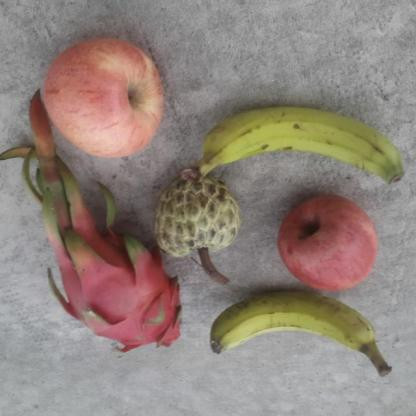annona: (152, 170, 247, 264)
apple: (44, 31, 169, 157), (279, 192, 383, 290)
banana: (182, 105, 405, 182), (207, 291, 397, 377)
pitaya: (46, 219, 185, 355)
